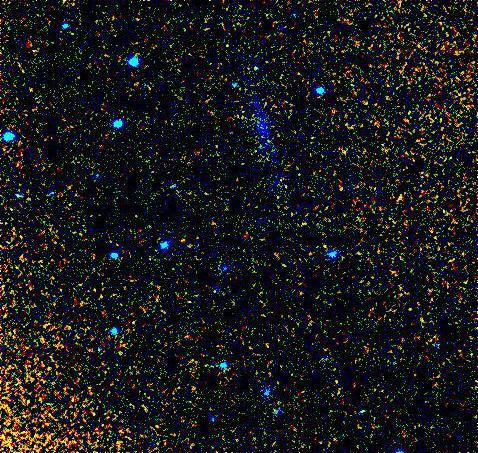star: (209, 255, 239, 285)
